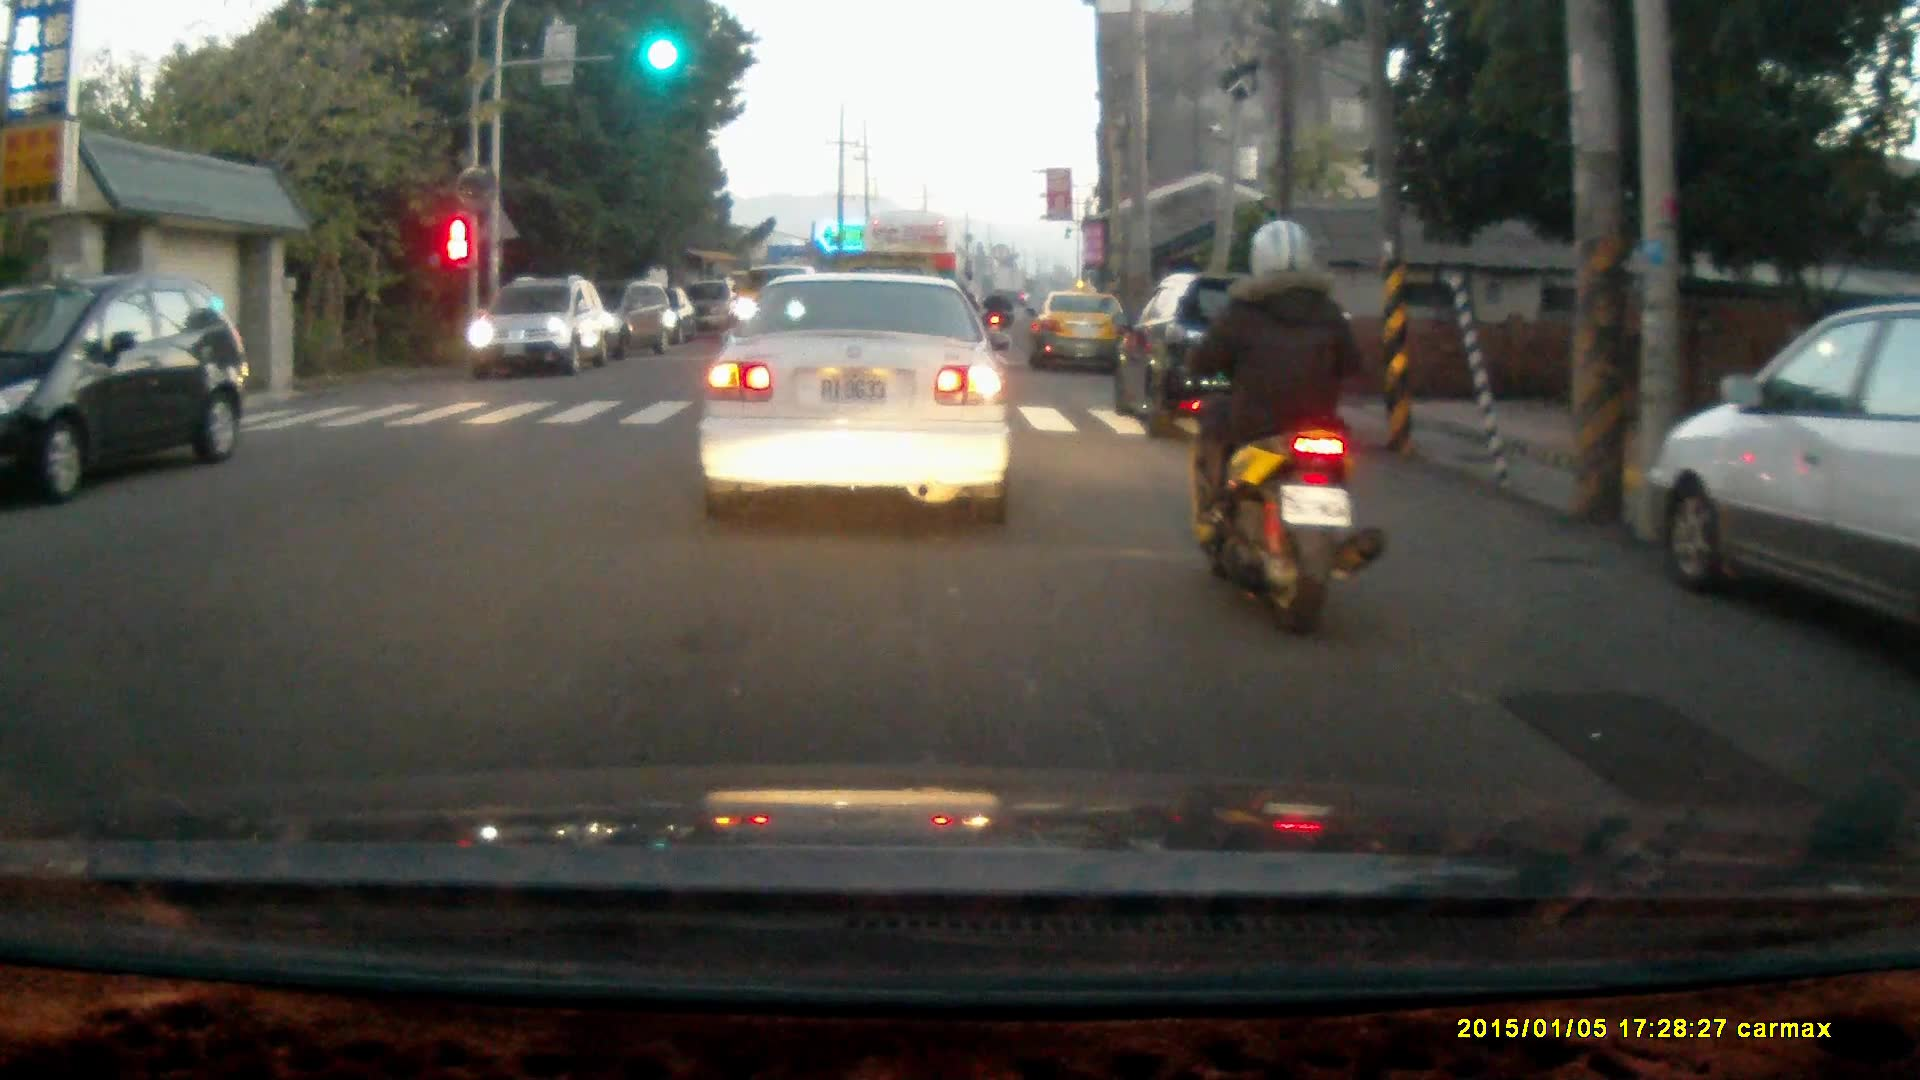rider: (1175, 215, 1386, 642)
vehicle: (1660, 298, 1920, 642), (693, 266, 1016, 528), (1, 276, 247, 511), (1106, 276, 1343, 451), (865, 208, 964, 361), (468, 279, 609, 375), (557, 278, 678, 364), (1029, 290, 1132, 378)
